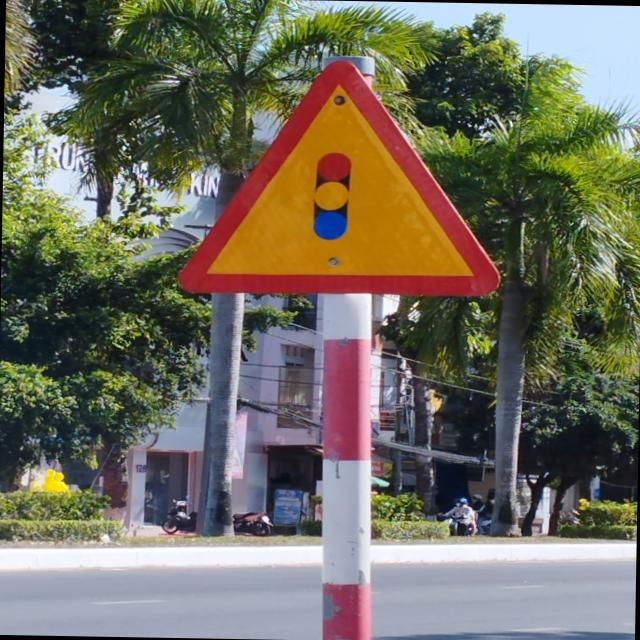Duong_Co_Go_Giam_Toc: (176, 56, 504, 296)
